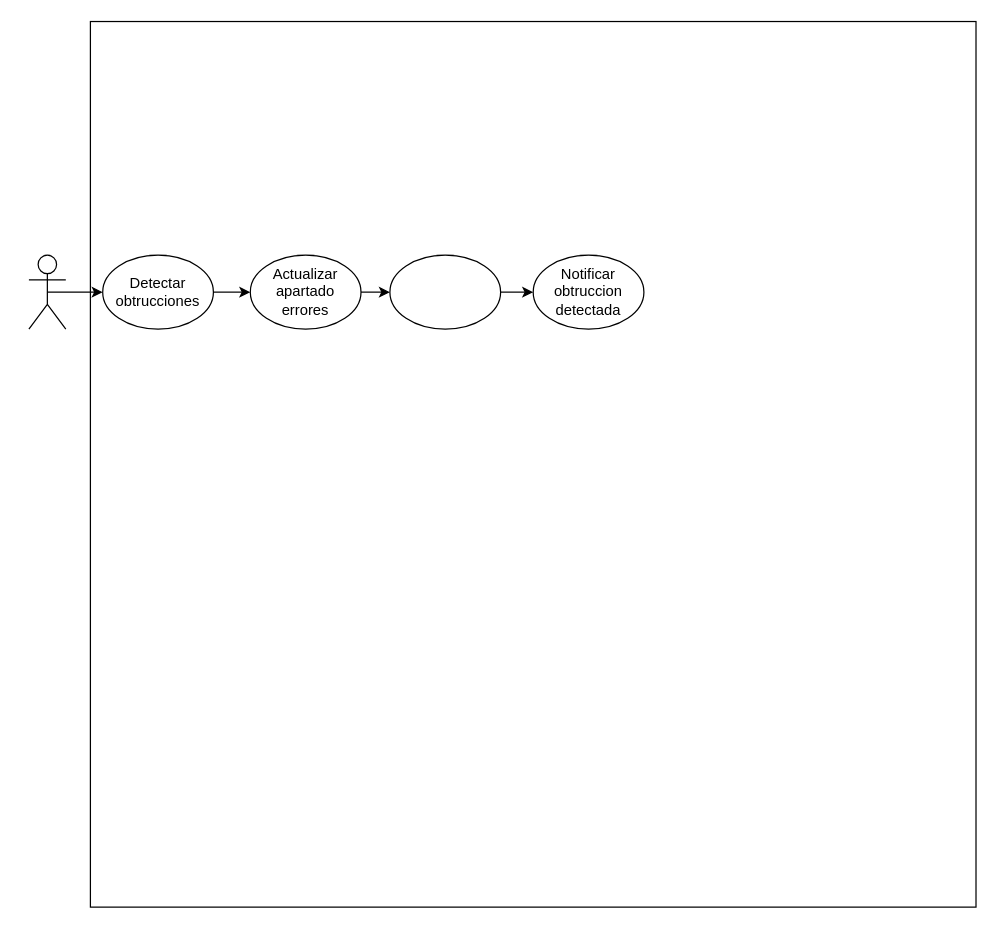
Image size: 998x929. Some labels were removed from this diagram. The shapes that lost their labels are listed below. From the top down, each one's centre as x and y in pixels, then its label:
At pixel 47 291: "Sistema".
At pixel 445 291: "Evaluar existencia obtrucciones".
